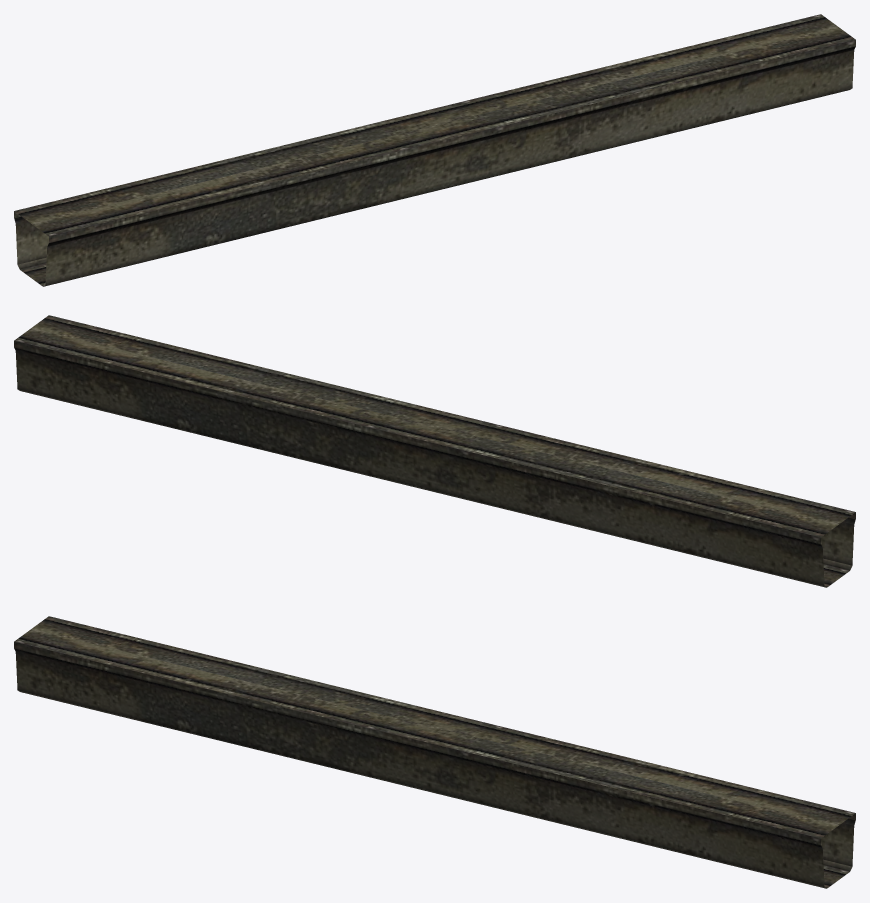
Rendered from beam_hl_1.obj.
3 renders of one model, top to bottom at view 1: azimuth 30°, elevation 25°; view 2: azimuth 150°, elevation 25°; view 3: azimuth 330°, elevation 25°, orthographic.
Parts seen in each view (by area): view 1: beam_hl_1; view 2: beam_hl_1; view 3: beam_hl_1.
Boxes of the visible parts, box(x1,y1,x2,y2) form: beam_hl_1: box(14, 14, 855, 286); beam_hl_1: box(14, 315, 855, 587); beam_hl_1: box(14, 616, 855, 888).
Bounding box in the file's own units: 4 × 0.258 × 0.3.
